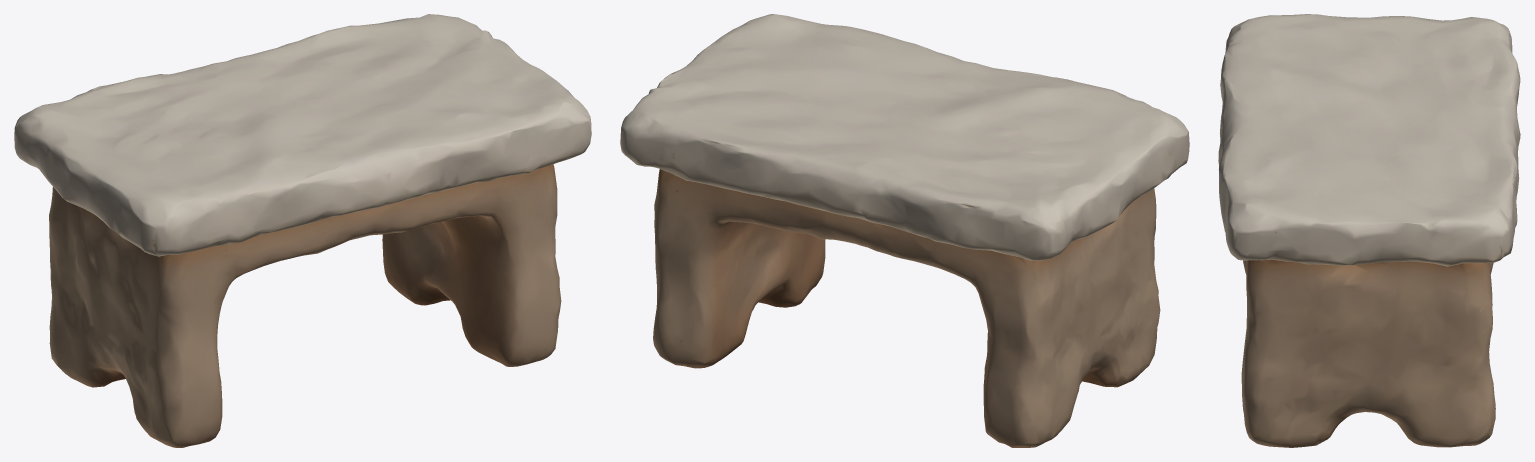
The model's file is desk-tripo-12k.glb.
The picture shows the model from 3 angles, left to right: view 1: azimuth 30°, elevation 25°; view 2: azimuth 150°, elevation 25°; view 3: azimuth 270°, elevation 25°; orthographic projection. The views are drawn at different scales.
Visible parts, largest first — view 1: tripo_node_edfaa977-25b2-4aca-8fba-bea85e0cce07; view 2: tripo_node_edfaa977-25b2-4aca-8fba-bea85e0cce07; view 3: tripo_node_edfaa977-25b2-4aca-8fba-bea85e0cce07.
Part boxes in pixels (box(x1,y1,x2,y2)): tripo_node_edfaa977-25b2-4aca-8fba-bea85e0cce07: box(14, 14, 591, 447); tripo_node_edfaa977-25b2-4aca-8fba-bea85e0cce07: box(620, 14, 1189, 447); tripo_node_edfaa977-25b2-4aca-8fba-bea85e0cce07: box(1218, 14, 1520, 447).
Size of the model in its own units: 1 by 0.5525 by 0.6008.
Materials: 1 (1 with a texture image).
